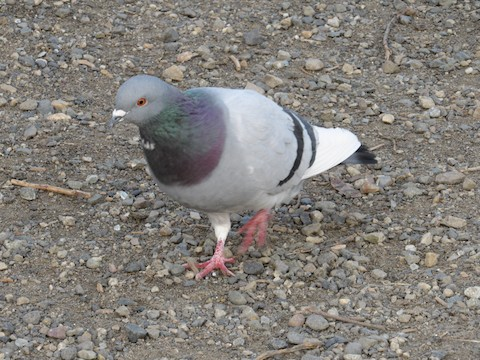pigeon: (107, 63, 381, 284)
